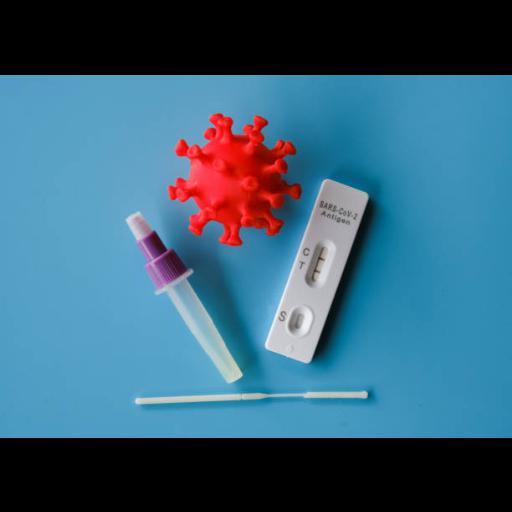Pos: (265, 177, 371, 362)
